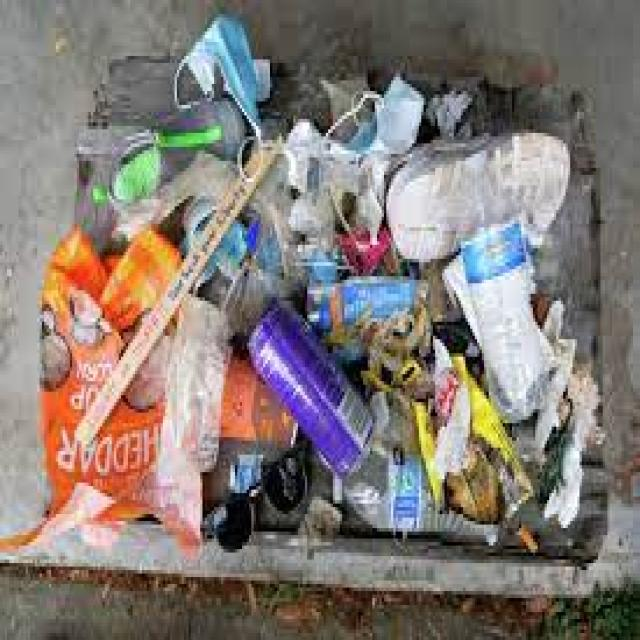metal: (230, 294, 368, 451)
plastic: (44, 234, 219, 532), (449, 129, 575, 434), (363, 458, 510, 549)
